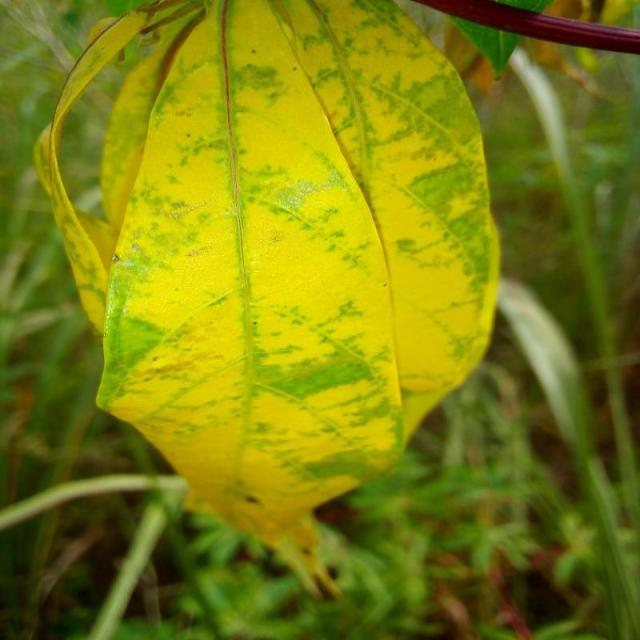cassava leaf: (37, 0, 503, 567)
